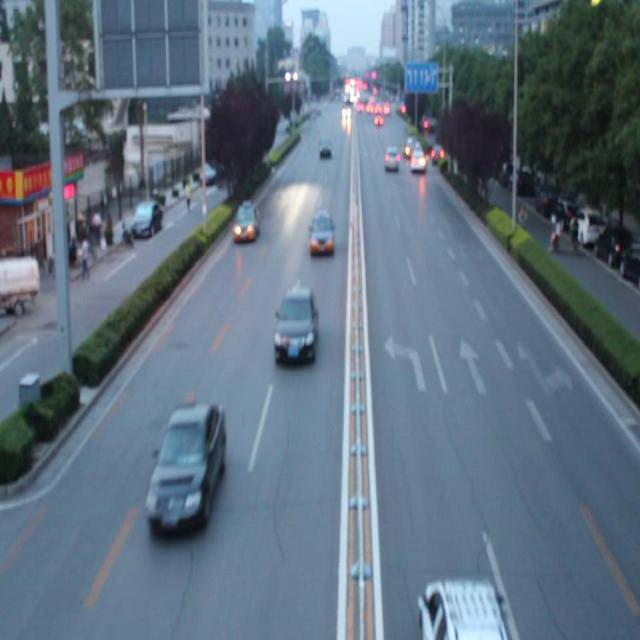car: (144, 399, 226, 533), (417, 573, 505, 640), (272, 284, 320, 362), (308, 208, 335, 254), (232, 202, 260, 244)
